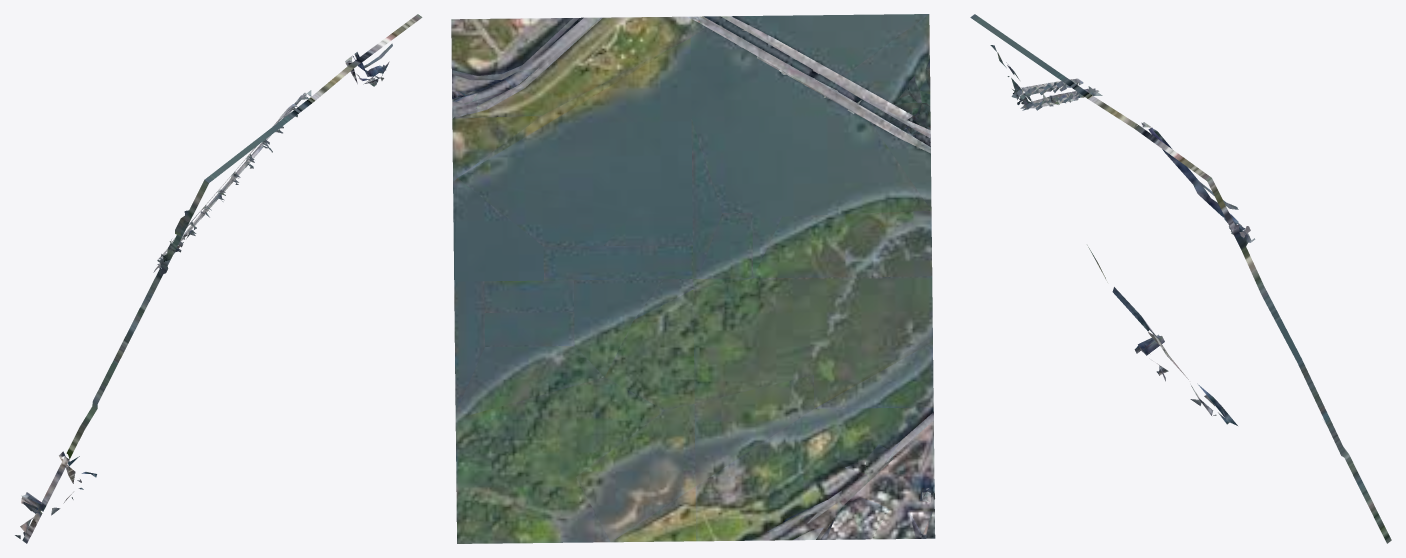
The picture shows the model from 3 angles, left to right: view 1: azimuth 30°, elevation 25°; view 2: azimuth 150°, elevation 25°; view 3: azimuth 270°, elevation 25°; orthographic projection. The views are drawn at different scales.
Bounding box in the file's own units: 1242 × 1120 × 1030.
1 material, 1 textured.
